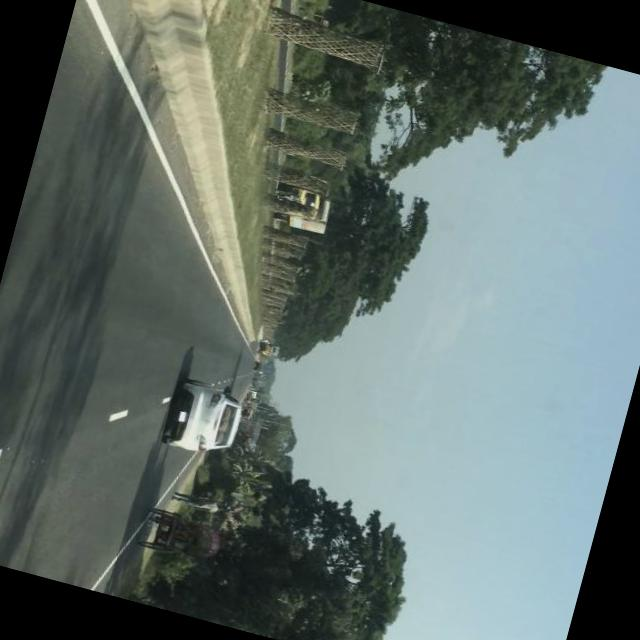car: (159, 373, 251, 465)
motorcycle: (134, 504, 229, 571)
truck: (285, 188, 335, 240), (253, 362, 276, 378), (258, 343, 275, 359)
